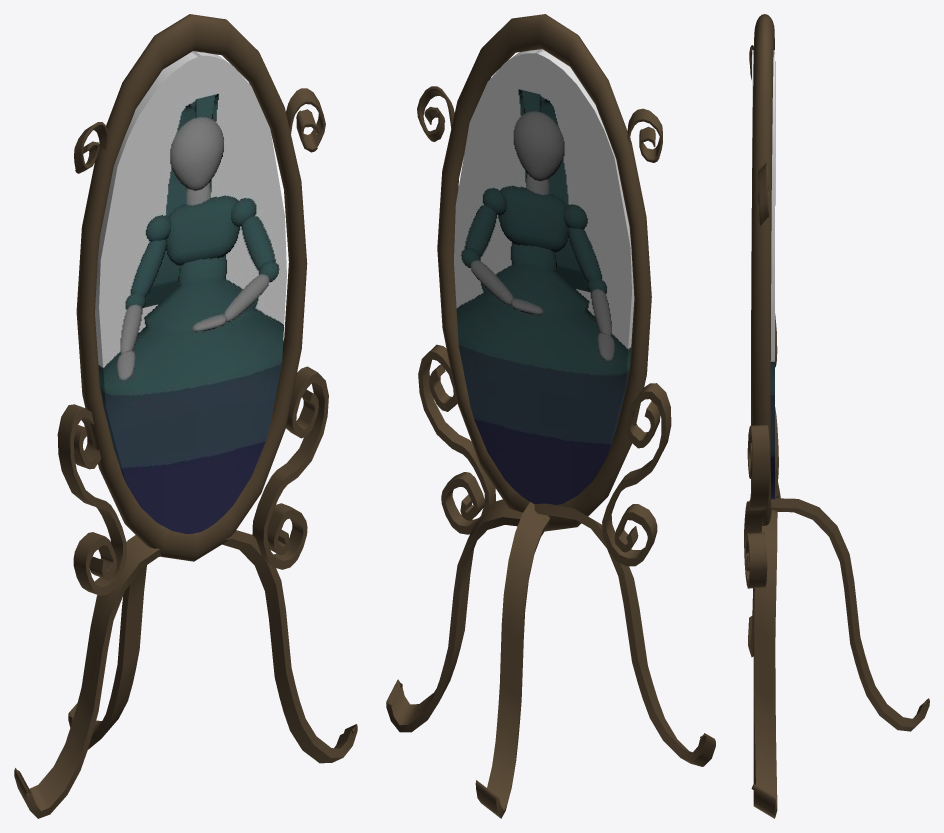
The model's file is charm mirror reflection.fbx.
3 views of the same model, side by side, from view 1: azimuth 30°, elevation 25°; view 2: azimuth 150°, elevation 25°; view 3: azimuth 270°, elevation 25° (orthographic). The views are drawn at different scales.
Visible parts, largest first — view 1: grove_mirror:pasted__pasted__nurbsCircle1; view 2: grove_mirror:pasted__pasted__nurbsCircle1; view 3: grove_mirror:pasted__pasted__nurbsCircle1.
Part boxes in pixels (x1=…): grove_mirror:pasted__pasted__nurbsCircle1: x1=14, y1=14, x2=357, y2=818; grove_mirror:pasted__pasted__nurbsCircle1: x1=386, y1=14, x2=715, y2=818; grove_mirror:pasted__pasted__nurbsCircle1: x1=744, y1=14, x2=929, y2=818.
Bounding box in the file's own units: 5.61 × 12.63 × 2.9.
